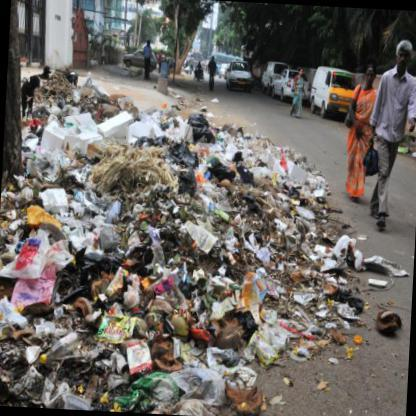Garbage: (62, 171, 278, 415), (81, 150, 296, 352), (0, 182, 138, 412), (245, 144, 305, 199), (54, 80, 88, 104)
